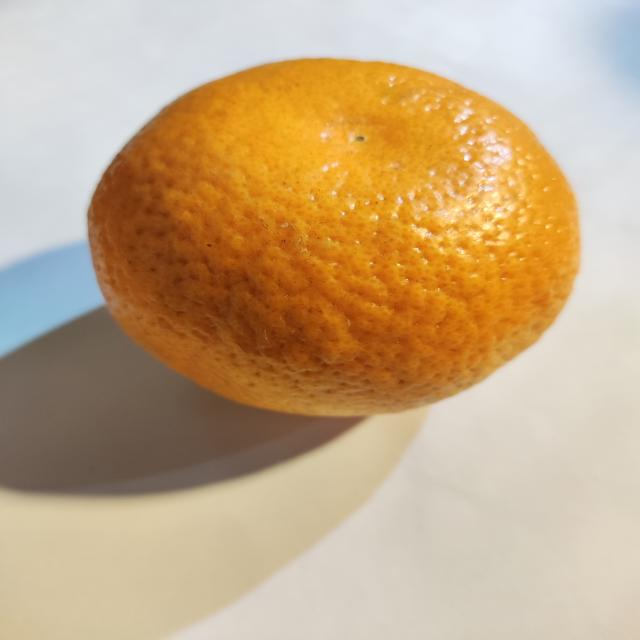orange: (90, 60, 578, 415)
